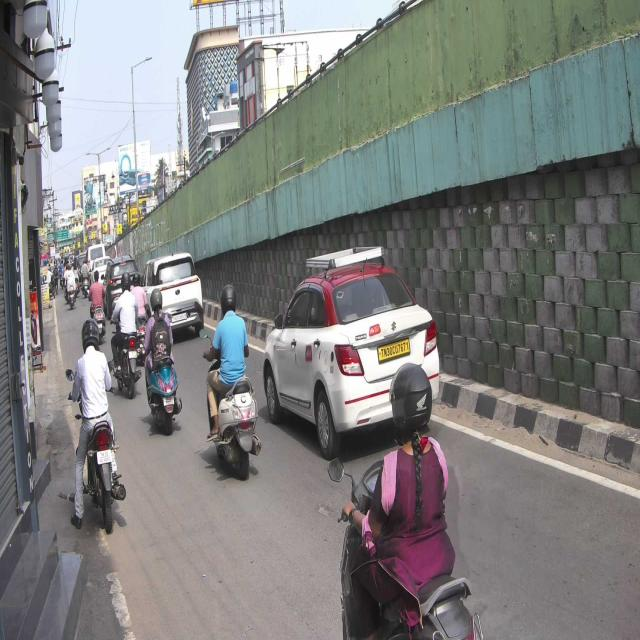single_rider: (331, 359, 482, 640), (65, 316, 126, 536), (200, 280, 264, 475)
